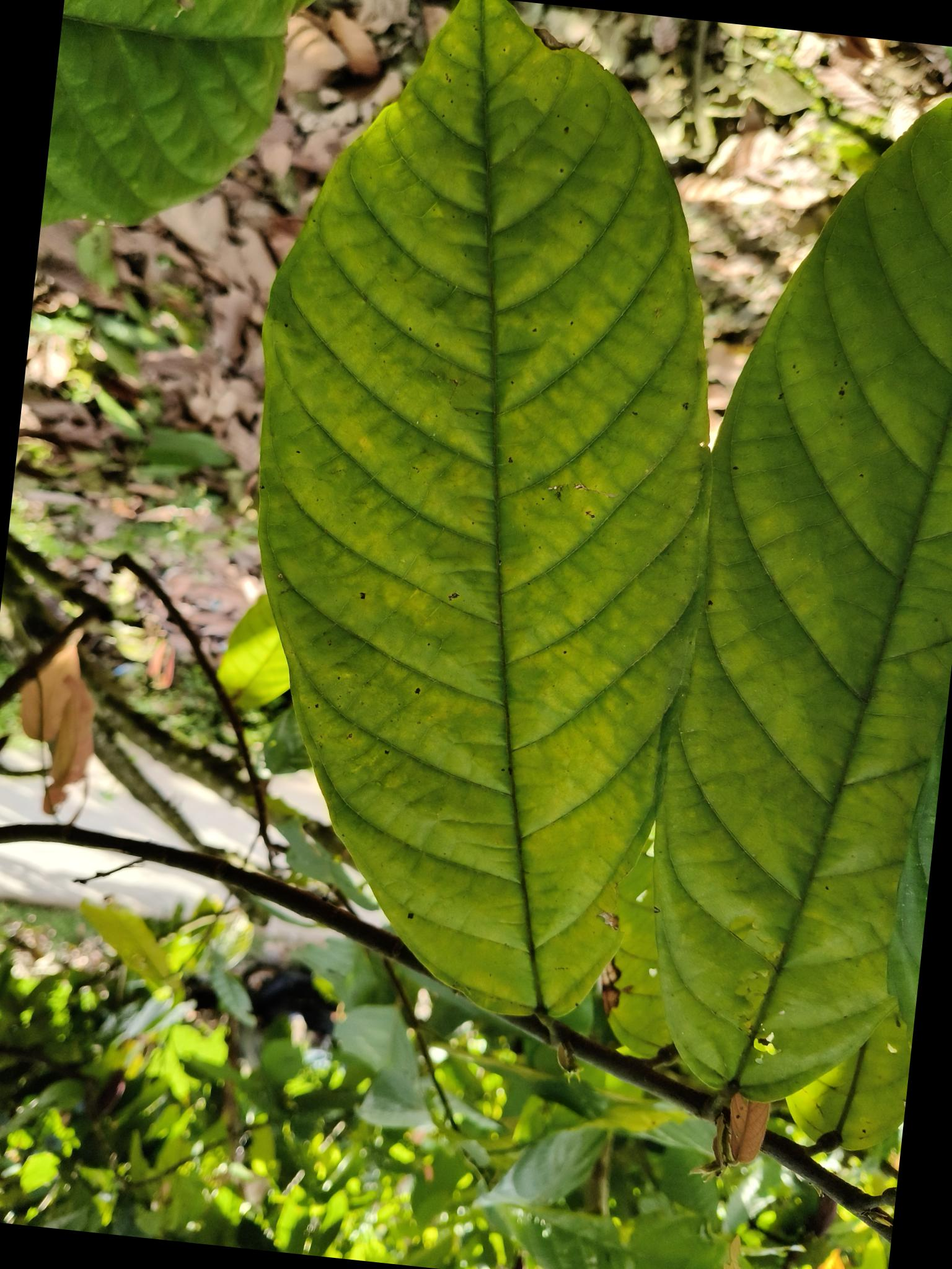Fosforo: (250, 0, 723, 1018)
